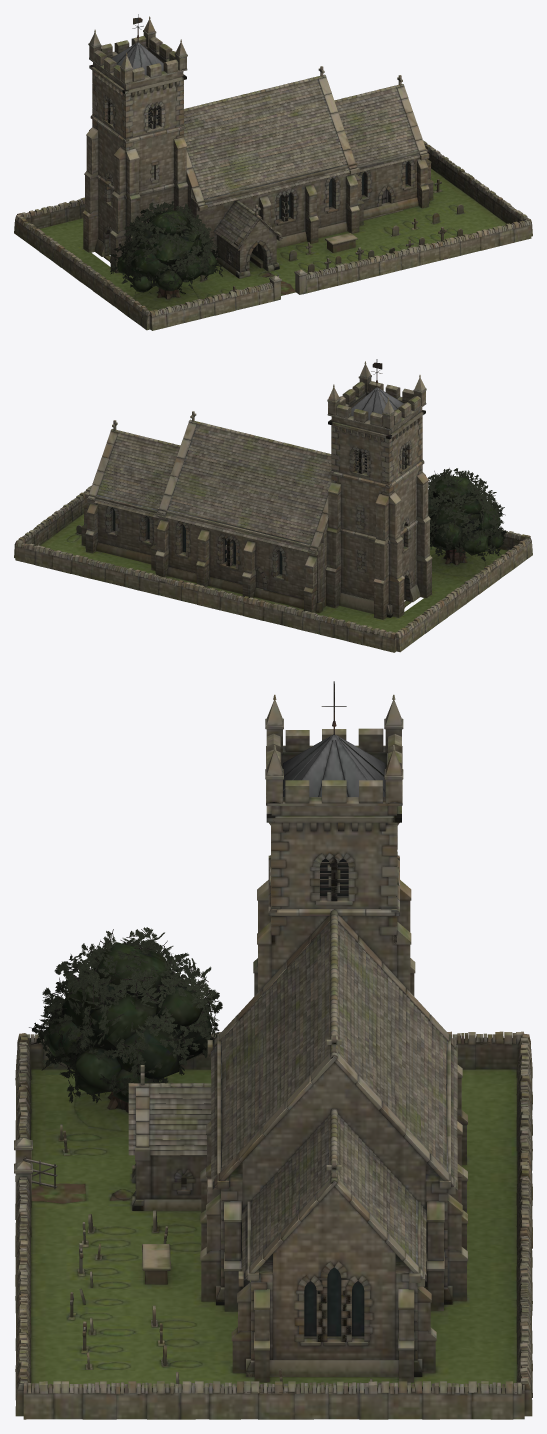
The model's file is church.glb.
3 views of the same model, one above another, from view 1: azimuth 30°, elevation 25°; view 2: azimuth 150°, elevation 25°; view 3: azimuth 270°, elevation 25° (orthographic). The views are drawn at different scales.
Parts seen in each view (by area): view 1: church_LOD0, church_extra0; view 2: church_LOD0, church_extra0; view 3: church_LOD0, church_extra0.
Boxes of the visible parts, bbox=[...] form: church_LOD0: bbox=[14, 14, 532, 330]; church_extra0: bbox=[110, 201, 222, 294]; church_LOD0: bbox=[14, 359, 532, 652]; church_extra0: bbox=[428, 468, 506, 561]; church_LOD0: bbox=[14, 681, 532, 1419]; church_extra0: bbox=[29, 927, 222, 1108].
Size of what is drawn, in the model's own units: 34.14 by 20.06 by 20.71.
Materials: 2 (2 with a texture image).
